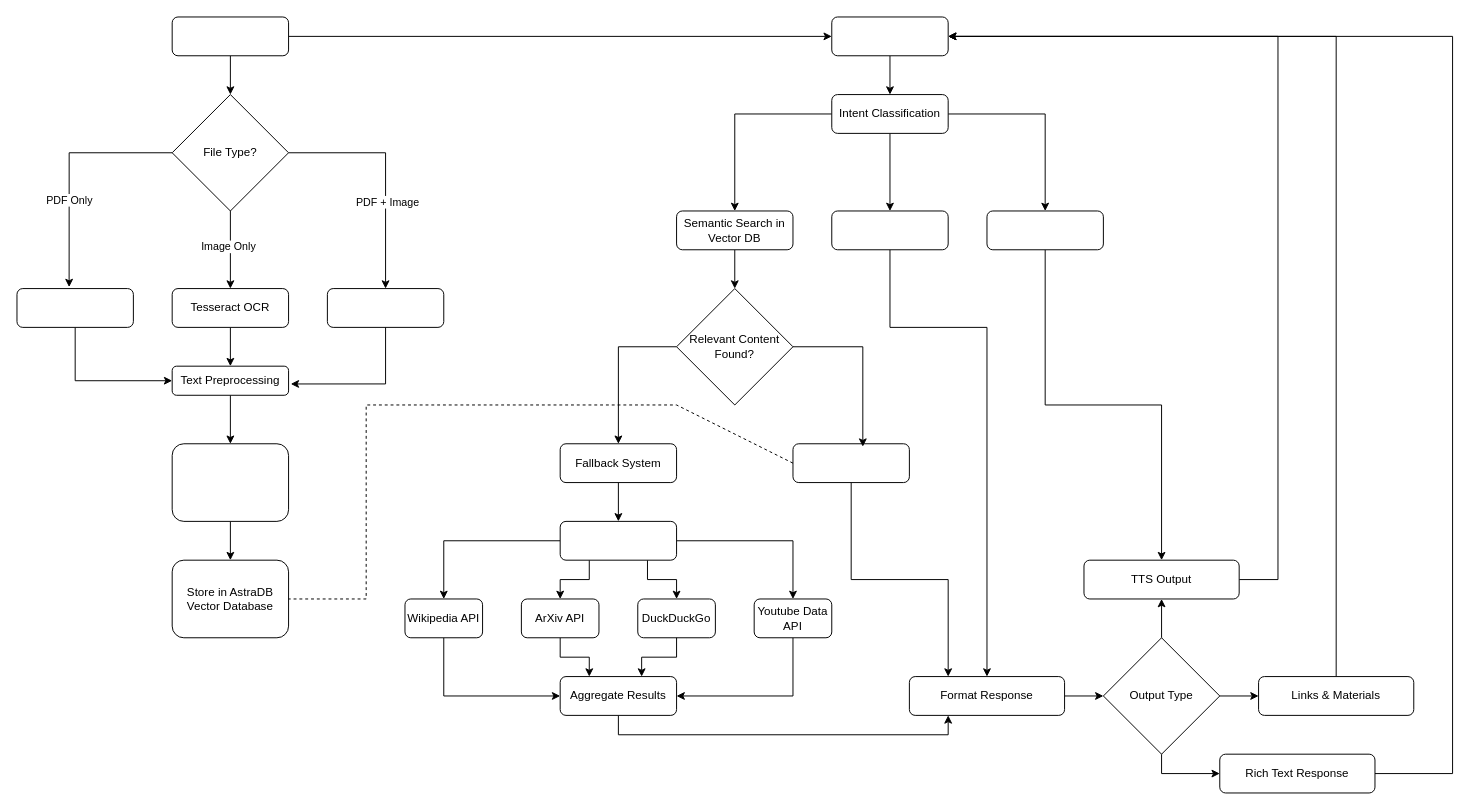
This 1477x810 diagram has some shape labels left out. The shapes that lost their labels are listed below. From the top down, each one's box as (x1, y1, x2, y2) in pixels, then its label:
(171, 16, 289, 56): User
(831, 16, 948, 56): Query Input
(831, 210, 948, 250): Resource Finder
(986, 210, 1103, 250): Text-to-Speech Modele
(16, 288, 133, 327): PyMuPDF
(326, 288, 444, 327): Combined Processing
(171, 443, 289, 521): Generate Embeddings via HuggingFace
(792, 443, 909, 483): Retrieve from DB
(559, 520, 677, 560): Query External Sources
